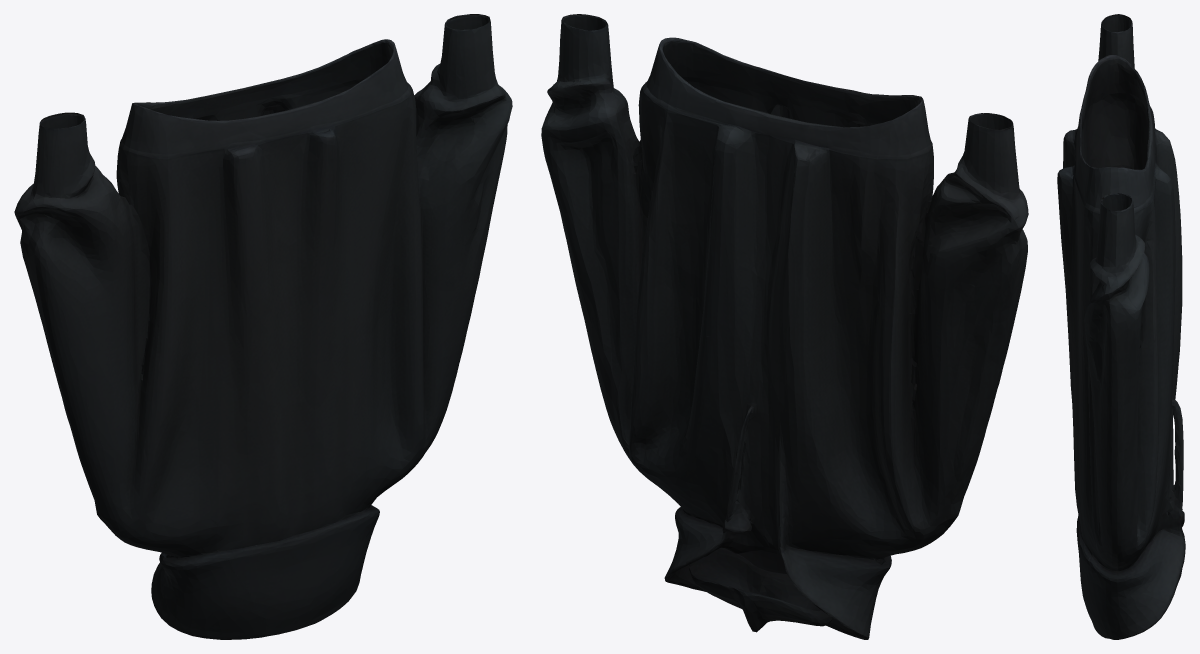
File: hoodie_black.glb
3 views of the same model, side by side, from view 1: azimuth 30°, elevation 25°; view 2: azimuth 150°, elevation 25°; view 3: azimuth 270°, elevation 25° (orthographic). The views are drawn at different scales.
Visible parts, largest first — view 1: world; view 2: world; view 3: world.
Part boxes in pixels (left/top/right/bottom): world: left=14, top=14, right=512, bottom=639; world: left=541, top=14, right=1028, bottom=639; world: left=1057, top=14, right=1185, bottom=639.
Size of the model in its own units: 0.9146 by 1 by 0.2329.
1 material, 1 textured.
